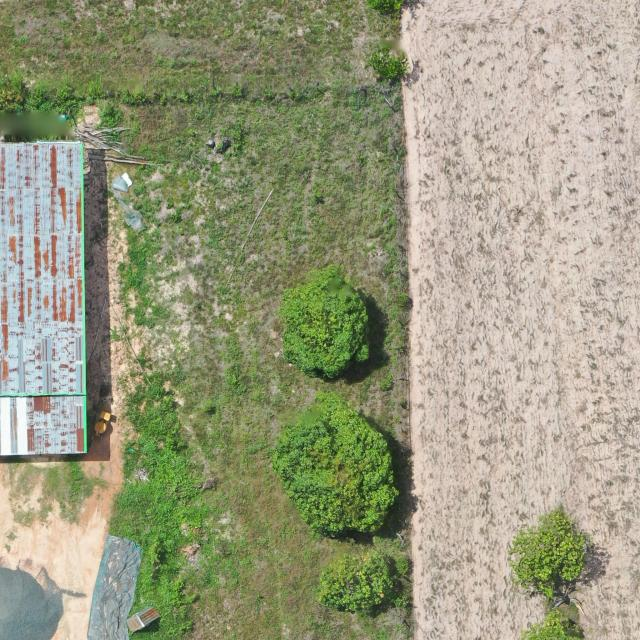Tree: (272, 391, 406, 540), (277, 264, 372, 382), (506, 502, 593, 596), (318, 550, 395, 616), (367, 44, 411, 86)
